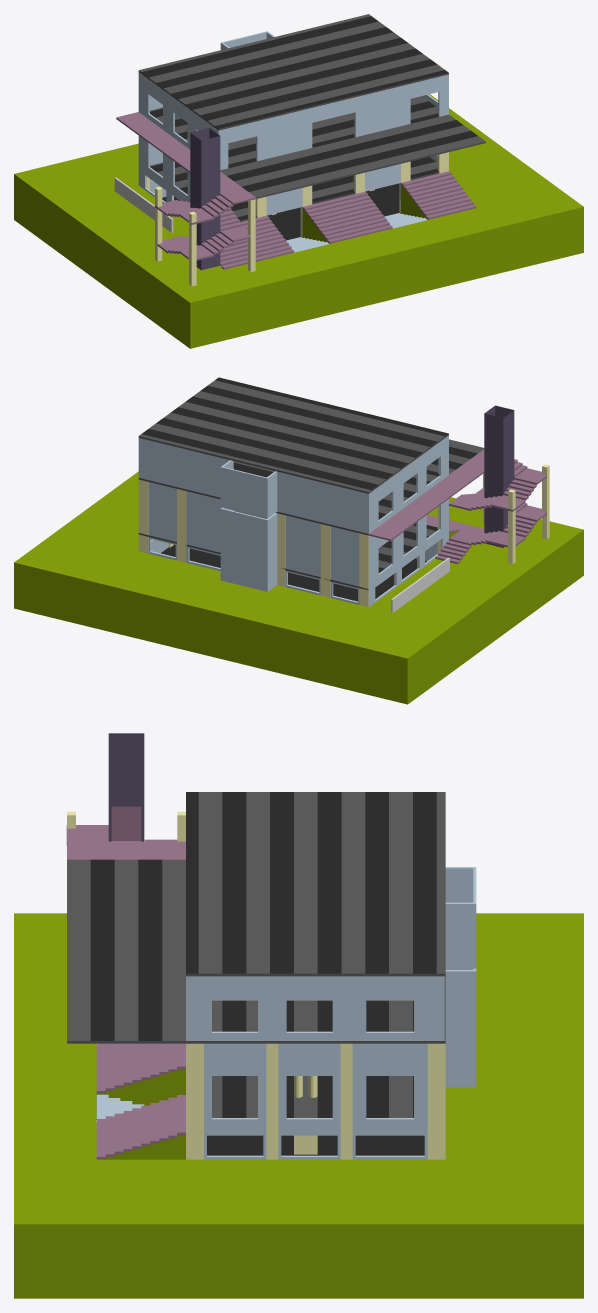
The model's file is Masjid.glb.
3 views of the same model, one above another, from view 1: azimuth 30°, elevation 25°; view 2: azimuth 150°, elevation 25°; view 3: azimuth 270°, elevation 25° (orthographic). The views are drawn at different scales.
Visible parts, largest first — view 1: Ground, floor.002, floor.001, MainWall_1st.001, frontStairs, stairs, MainWall_1st, Lift, floor, liftBeam, UGFloor, BS (+4 smaller); view 2: Ground, floor.002, MainWall_1st, MainWall_1st.001, stairs, Lift, floor.001, BS, UGFloor, BC, floor, liftBeam (+2 smaller); view 3: Ground, floor.002, floor.001, MainWall_1st, MainWall_1st.001, frontStairs, floor, BC, Lift, UGFloor, BS.001, stairs (+2 smaller).
Part boxes in pixels (box(x1,y1,x2,y2)): Ground: box(14, 94, 583, 348); floor.002: box(138, 14, 448, 130); floor.001: box(150, 96, 485, 198); MainWall_1st.001: box(138, 31, 448, 170); frontStairs: box(232, 171, 476, 263); stairs: box(116, 112, 255, 260); MainWall_1st: box(138, 136, 437, 215); Lift: box(190, 128, 220, 270); floor: box(150, 157, 439, 221); liftBeam: box(155, 187, 255, 286); UGFloor: box(162, 183, 399, 240); BS: box(255, 161, 410, 237); Ground: box(14, 471, 583, 704); floor.002: box(138, 377, 448, 493); MainWall_1st: box(148, 482, 448, 606); MainWall_1st.001: box(138, 435, 448, 533); stairs: box(368, 449, 546, 547); Lift: box(484, 405, 514, 547); floor.001: box(138, 439, 484, 535); BS: box(177, 489, 330, 597); UGFloor: box(161, 544, 426, 601); BC: box(138, 479, 440, 607); floor: box(138, 510, 438, 590); liftBeam: box(483, 464, 549, 564); Ground: box(14, 913, 583, 1298); floor.002: box(186, 792, 445, 976); floor.001: box(67, 859, 445, 1043); MainWall_1st: box(204, 968, 476, 1159); MainWall_1st.001: box(186, 867, 476, 1040); frontStairs: box(96, 1043, 185, 1159); floor: box(212, 1076, 413, 1117); BC: box(186, 1043, 445, 1159); Lift: box(108, 733, 144, 841); UGFloor: box(207, 1135, 424, 1155); BS.001: box(266, 1043, 352, 1159); stairs: box(66, 825, 185, 859).
Bounding box in the file's own units: 37.66 × 16.18 × 29.19.
